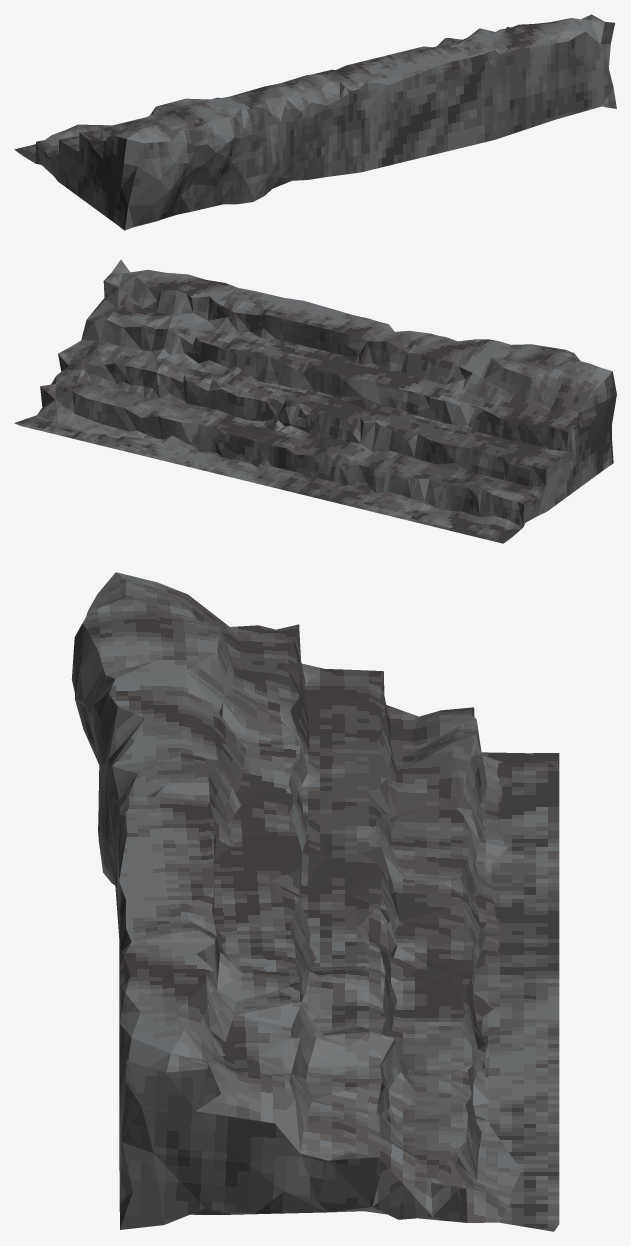
File: caveV2_stairs.glb
3 views of the same model, one above another, from view 1: azimuth 30°, elevation 25°; view 2: azimuth 150°, elevation 25°; view 3: azimuth 270°, elevation 25° (orthographic). The views are drawn at different scales.
Parts seen in each view (by area): view 1: Cube.001; view 2: Cube.001; view 3: Cube.001.
Boxes of the visible parts, bbox=[...] form: Cube.001: bbox=[14, 14, 616, 230]; Cube.001: bbox=[14, 259, 616, 543]; Cube.001: bbox=[71, 572, 559, 1231].
Bounding box in the file's own units: 9.83 × 1.84 × 4.21.
Materials: 1 (1 with a texture image).
